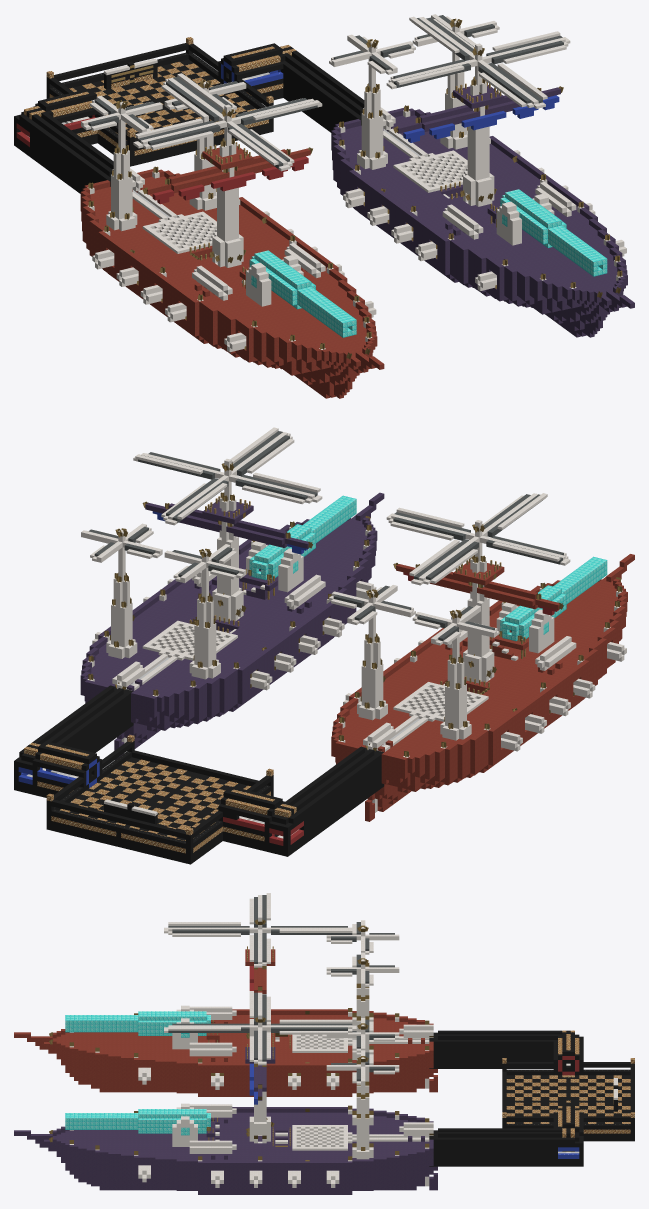
The model's file is minecraft.obj.
3 renders of one model, top to bottom at view 1: azimuth 30°, elevation 25°; view 2: azimuth 150°, elevation 25°; view 3: azimuth 270°, elevation 25°, orthographic. The views are drawn at different scales.
Size of the model in its own units: 930 by 450 by 1450.
